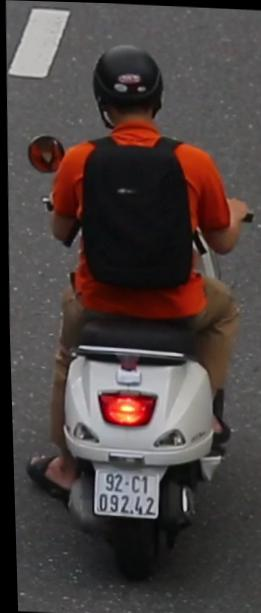LP: (85, 457, 167, 524)
helmet: (81, 33, 187, 156)
